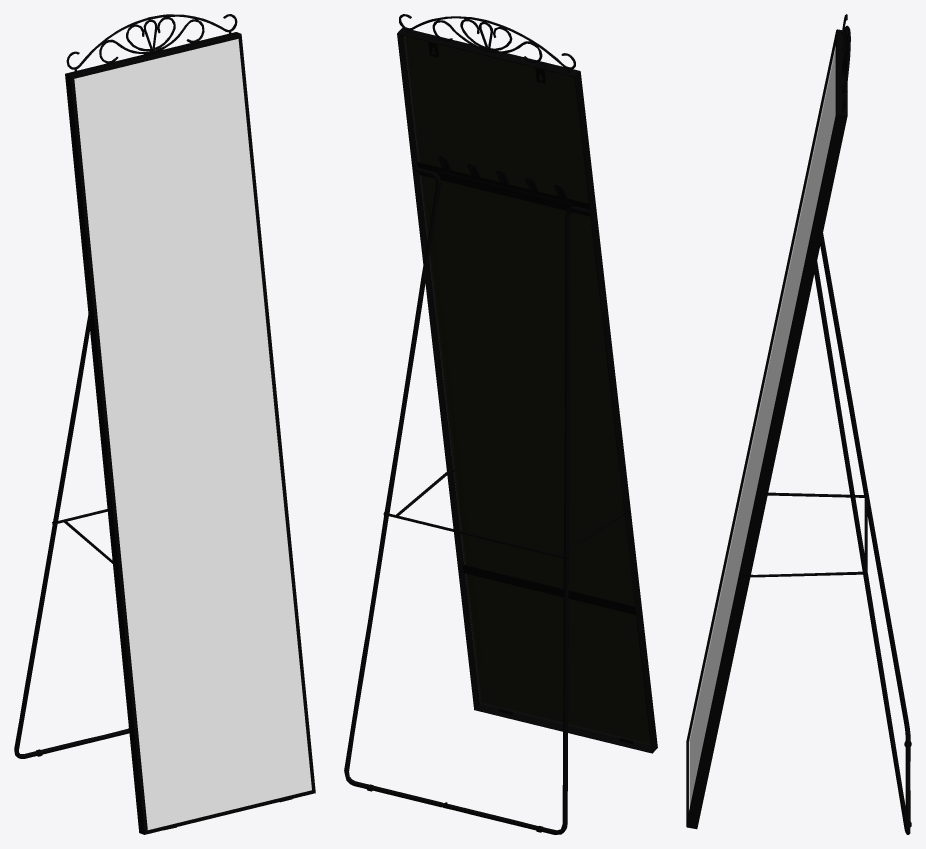
The model's file is karmsund_lustro_stojace_40294982.glb.
3 renders of one model, left to right at view 1: azimuth 30°, elevation 25°; view 2: azimuth 150°, elevation 25°; view 3: azimuth 270°, elevation 25°, orthographic. The views are drawn at different scales.
Parts seen in each view (by area): view 1: karmsund_lustro_stojace_40294982; view 2: karmsund_lustro_stojace_40294982; view 3: karmsund_lustro_stojace_40294982.
Boxes of the visible parts, <box> form: karmsund_lustro_stojace_40294982: <box>14,14,315,834</box>; karmsund_lustro_stojace_40294982: <box>344,14,657,834</box>; karmsund_lustro_stojace_40294982: <box>686,14,911,834</box>.
Bounding box in the file's own units: 0.4995 × 1.65 × 0.4504.
1 material, 1 textured.
